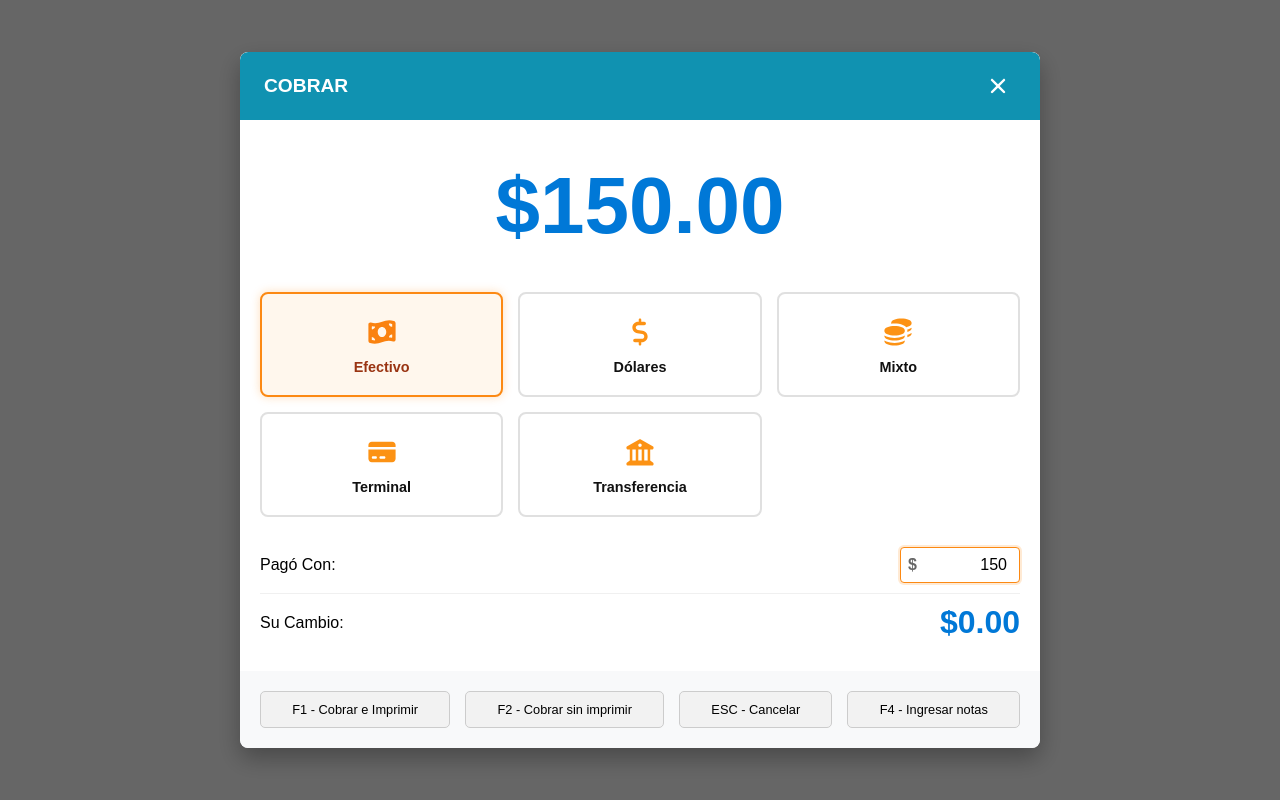
Test: PaymentModal: modo de impresion y accesibilidad › asocia un label accesible a cada campo de pago visible
Expected: the field labelled "Pagó Con:" is shown, [900,547,1020,583]
Click the button "Transferencia".
click(640, 464)  # box [518,412,762,517]
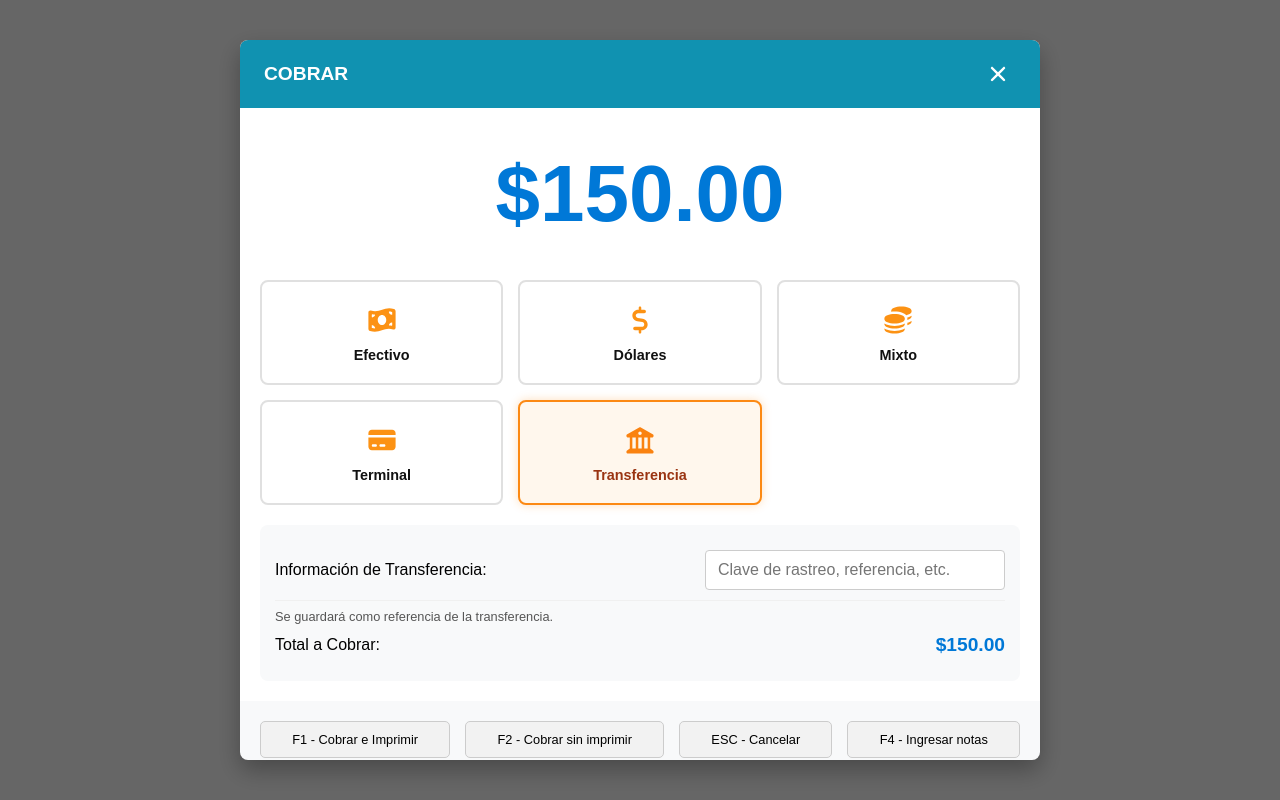
Now the field labelled "Información de Transferencia:" is shown, box [705,550,1005,590]
Click the button "Mixto".
click(898, 332)  # box [777,280,1020,385]
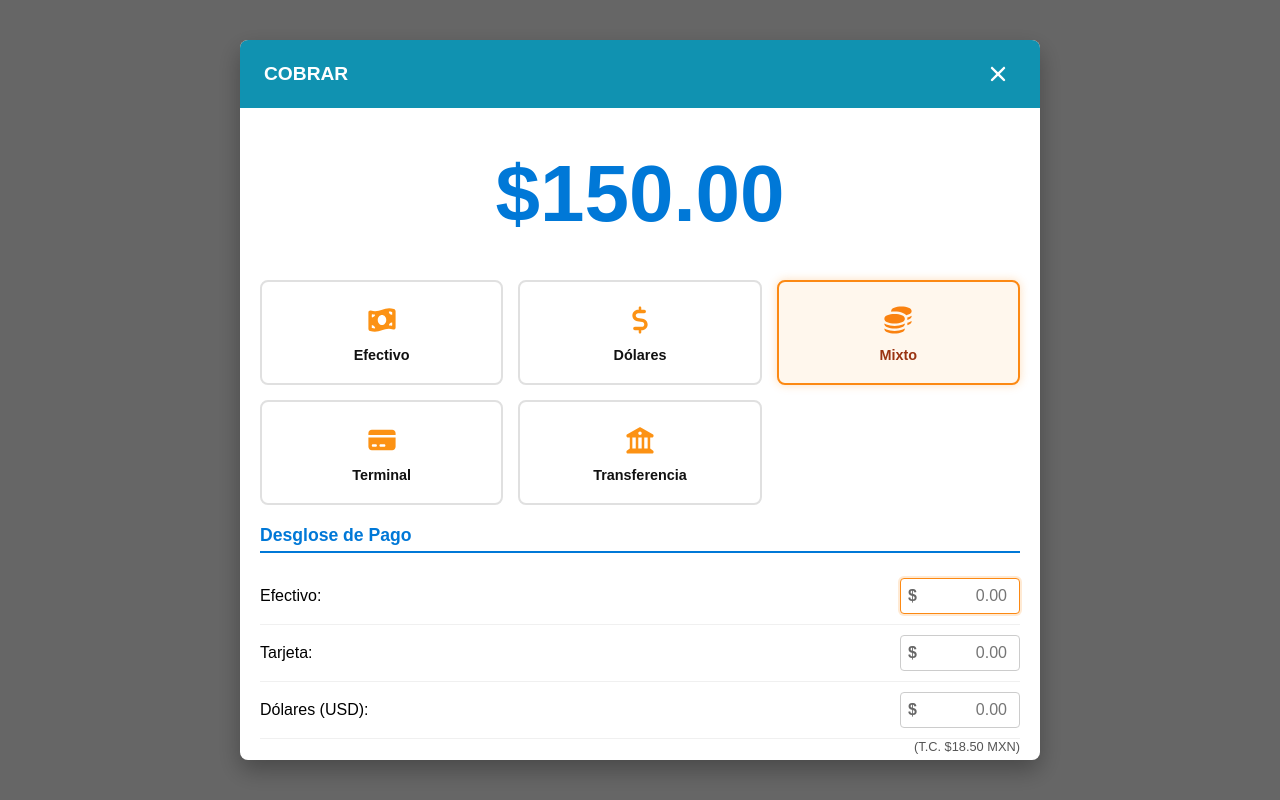
Now the field labelled "Efectivo:" is shown, box [900,578,1020,614]
Now the field labelled "Tarjeta:" is shown, box [900,635,1020,671]
Now the field labelled "Dólares (USD):" is shown, box [900,692,1020,728]
